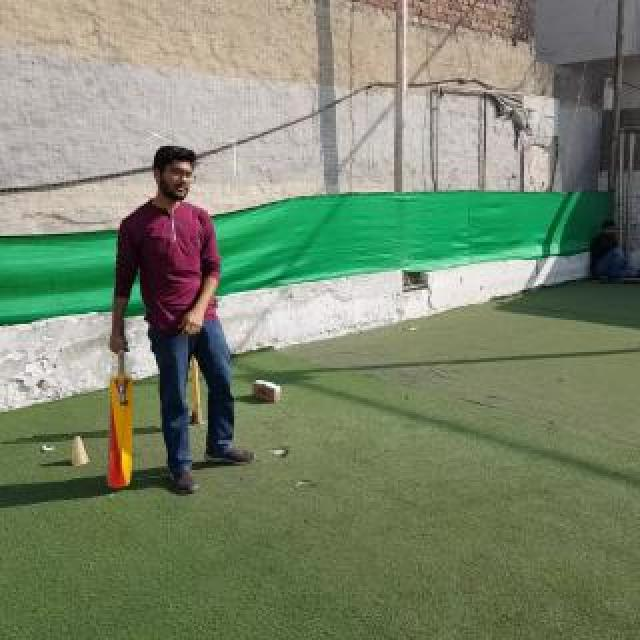bat: (106, 352, 134, 490)
